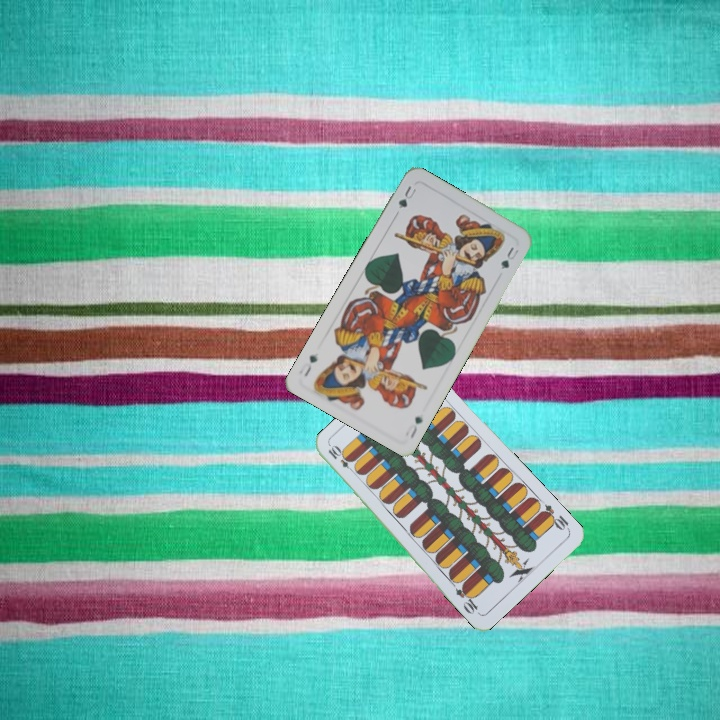E10: (324, 442, 358, 476), (537, 500, 572, 533)
GU: (394, 182, 419, 211), (406, 412, 425, 442)
